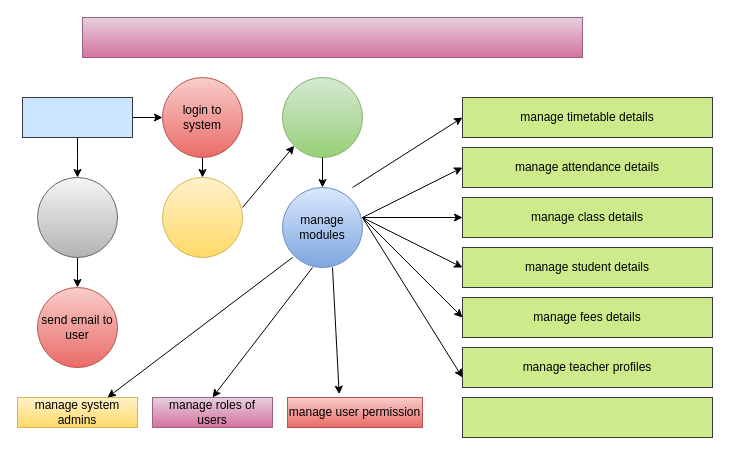
This 730x455 diagram has some shape labels left out. The box of each missing label's shape, as (x1, y1, x2, y2) in pixels:
admin: (22, 96, 132, 138)
check credentials: (162, 176, 242, 258)
check roles of acces: (282, 76, 362, 158)
forgot password: (36, 176, 118, 258)
manage report: (462, 396, 712, 438)
student information system: (82, 16, 582, 58)
